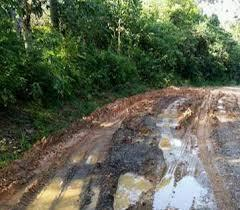Pothole: (148, 96, 217, 209), (34, 144, 107, 210), (108, 162, 148, 210)
